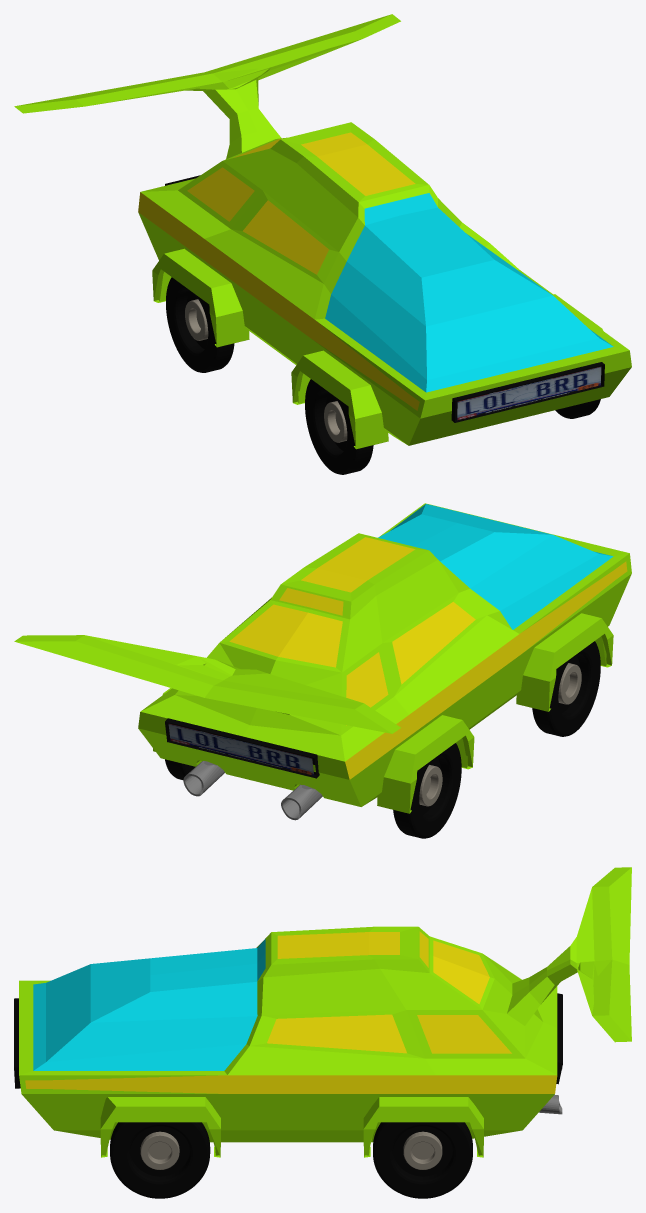
Rendered from FinalCar.fbx.
3 views of the same model, one above another, from view 1: azimuth 30°, elevation 25°; view 2: azimuth 150°, elevation 25°; view 3: azimuth 270°, elevation 25° (orthographic). The views are drawn at different scales.
Parts seen in each view (by area): view 1: Cube, Plane, Circle.002, Circle; view 2: Cube, Plane.001, Circle, Circle.002, Cylinder; view 3: Cube, Circle.003, Circle.001, Plane.001, Plane.
Part boxes in pixels (x1,y1,x2,y2): Cube: (14,14,631,449); Plane: (451,362,604,422); Circle.002: (305,379,373,474); Circle: (166,277,234,372); Cube: (14,503,631,813); Plane.001: (165,718,319,778); Circle: (393,743,461,838); Circle.002: (532,641,600,736); Cylinder: (183,761,322,820); Cube: (19,867,631,1157); Circle.003: (110,1122,210,1198); Circle.001: (373,1122,472,1198); Plane.001: (556,993,562,1084); Plane: (14,998,20,1088).
Size of the model in its own units: 279 by 149 by 418.
